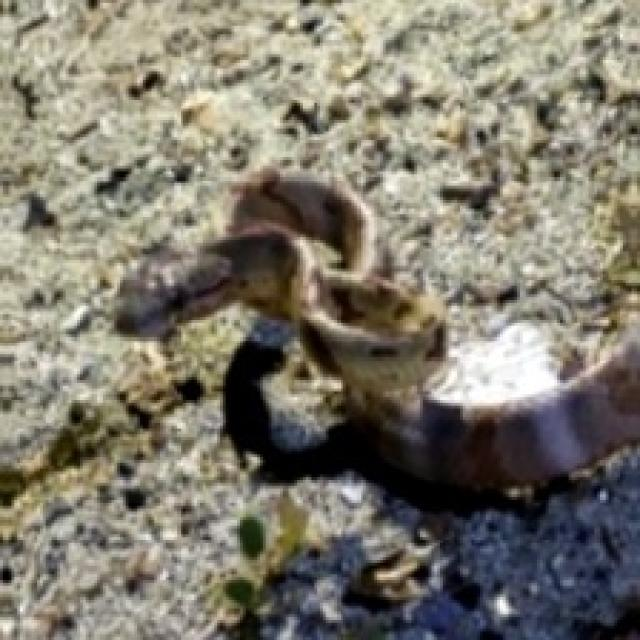dog-toothed cat snake: (117, 166, 637, 506)
